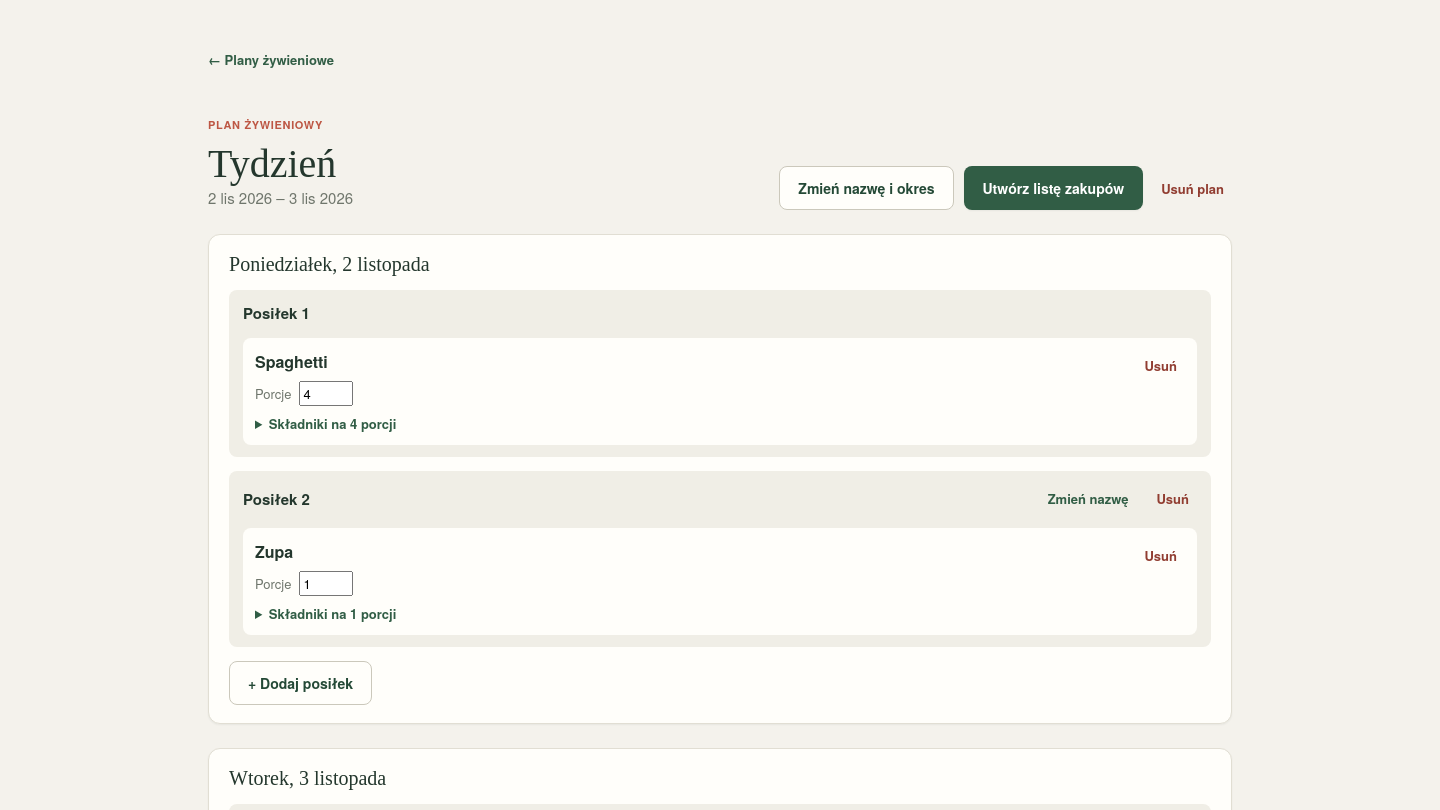
Test: meal plan view › warns about lists and entries before deleting the plan
Click the button "Usuń plan": (1193, 188) [1153,173,1232,204]
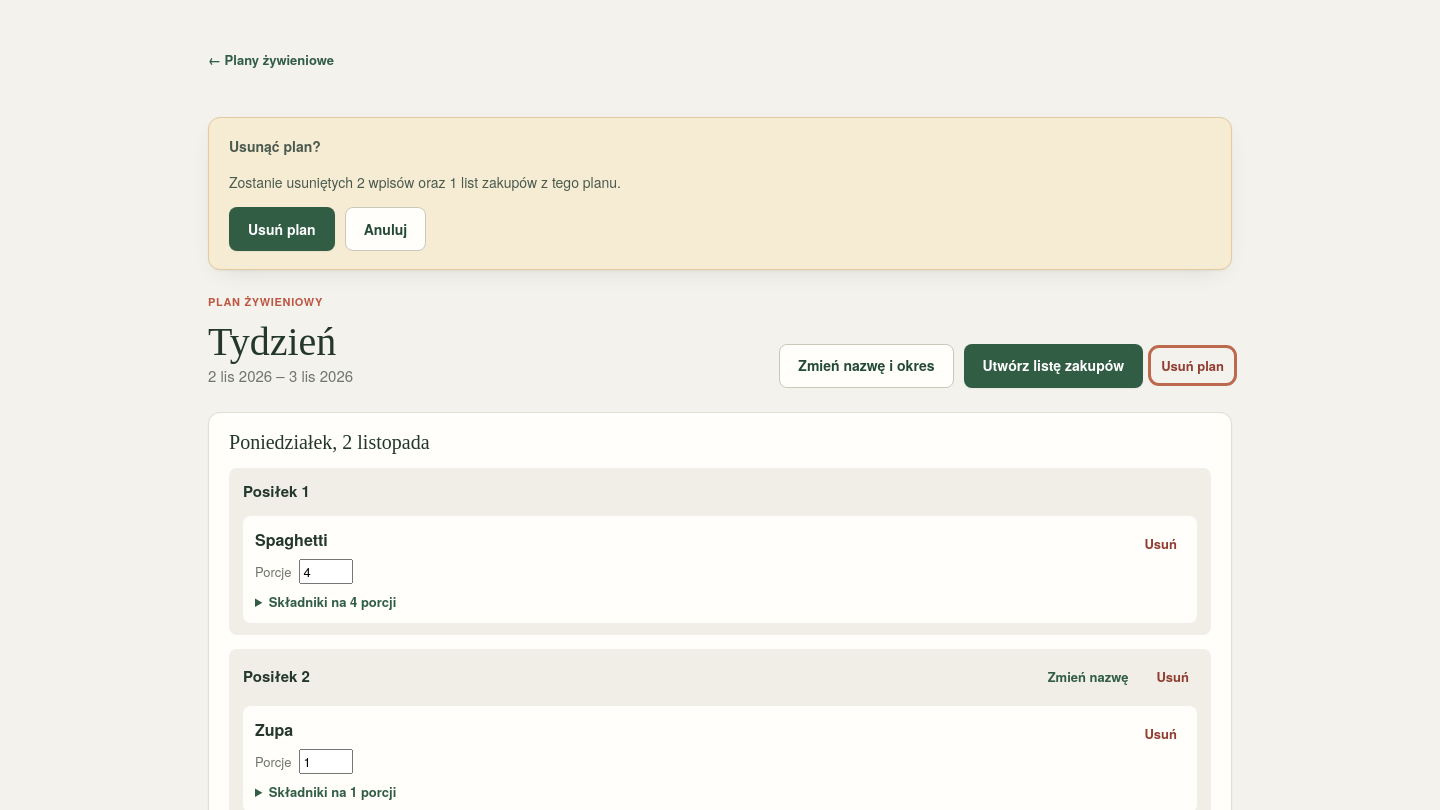
Result: the text "Zostanie usuniętych 2 wpisów oraz 1 list zakupów z tego planu." is shown at [229,172,621,192]
